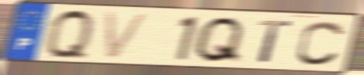1: (174, 15, 201, 62)
C: (294, 19, 348, 67)
Q: (44, 7, 96, 63), (191, 15, 248, 65)
T: (257, 18, 294, 65)
V: (102, 10, 153, 61)
